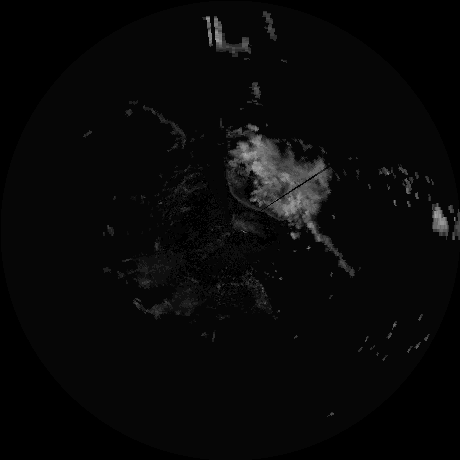frontgust: (225, 169, 280, 219)
